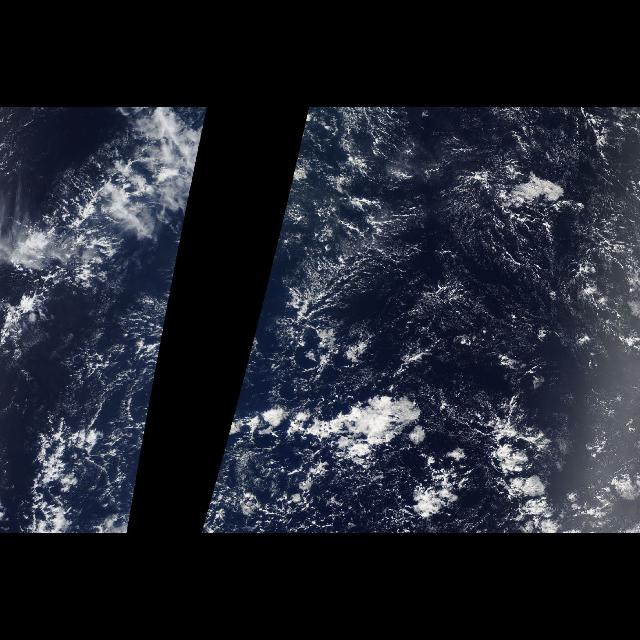Fish: (9, 119, 208, 361), (282, 190, 388, 420)
Gravel: (201, 113, 634, 533), (38, 376, 156, 532)
Sugar: (274, 130, 634, 440)
